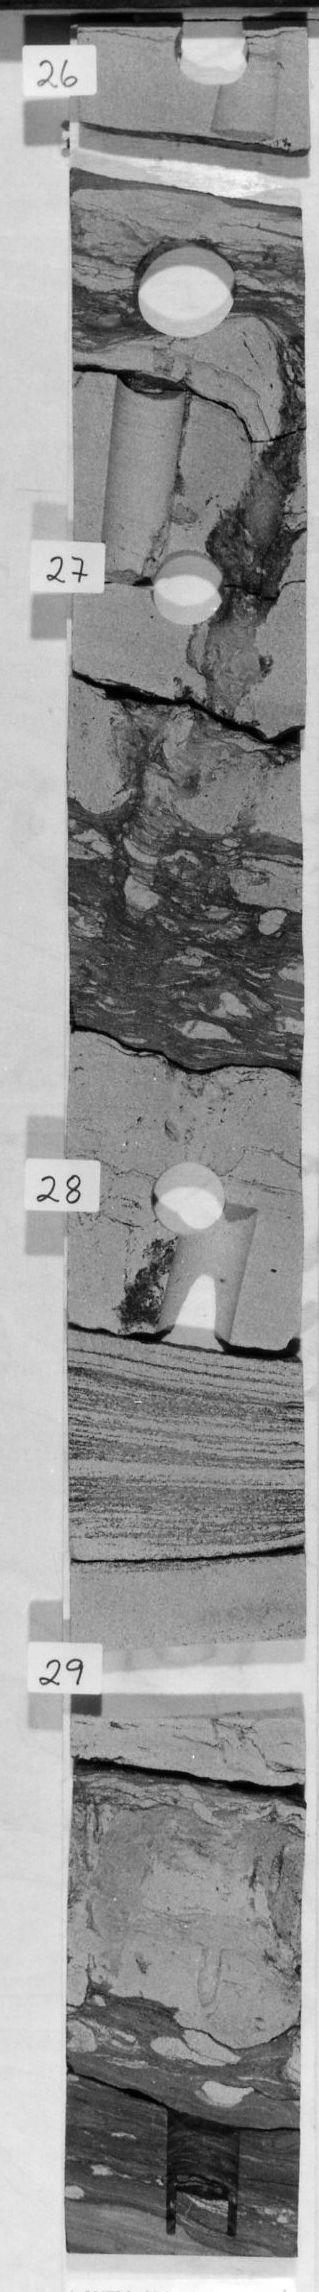hplug: (159, 20, 260, 96), (140, 1159, 234, 1240), (148, 550, 234, 631)
scal: (121, 229, 252, 342)
vplug: (97, 364, 181, 596), (146, 2098, 258, 2247), (154, 1207, 258, 1359), (212, 31, 296, 142)
